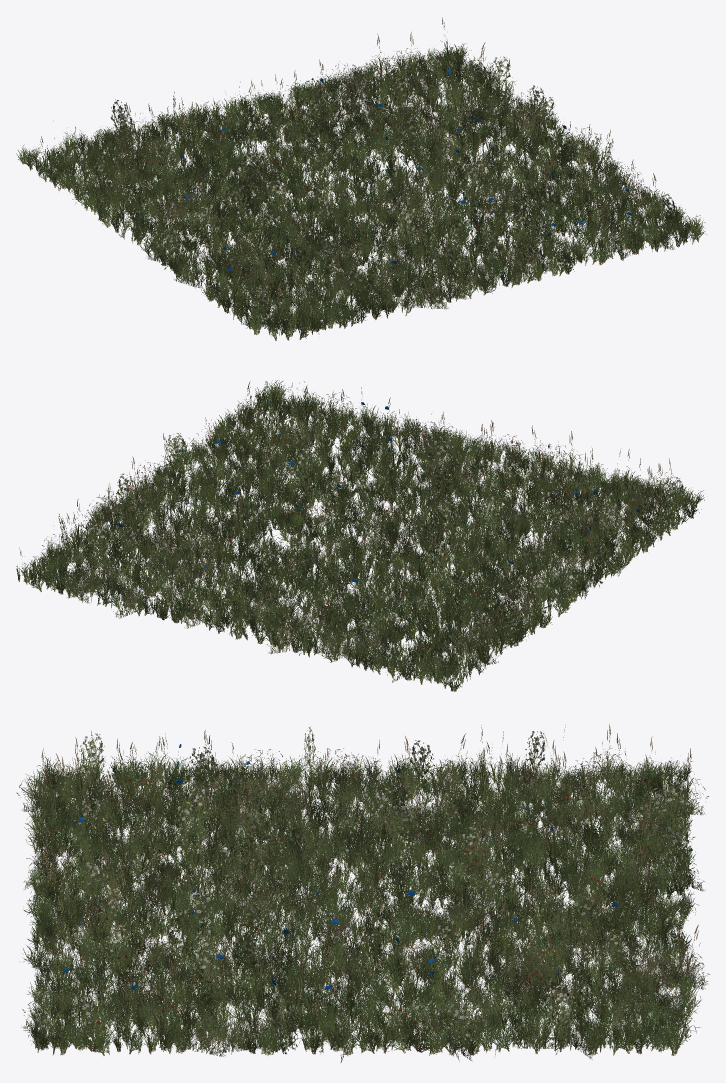
The model's file is Grass.fbx.
The picture shows the model from 3 angles, top to bottom: view 1: azimuth 30°, elevation 25°; view 2: azimuth 150°, elevation 25°; view 3: azimuth 270°, elevation 25°; orthographic projection. The views are drawn at different scales.
Parts seen in each view (by area): view 1: Grass_1.002; view 2: Grass_1.002; view 3: Grass_1.002.
Part boxes in pixels (x1,y1,x2,y2): Grass_1.002: (16,17,706,340); Grass_1.002: (16,380,704,691); Grass_1.002: (16,724,709,1062).
Size of the model in its own units: 1067 by 123 by 1071.
Materials: 1 (1 with a texture image).
